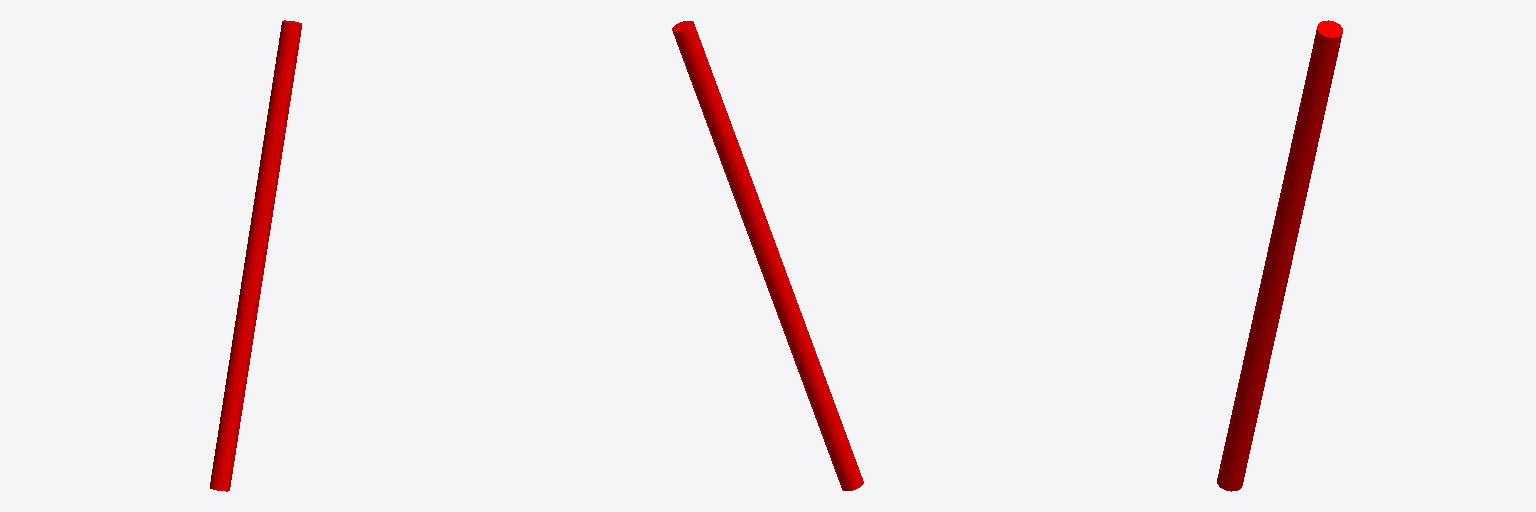
robot.urdf — tree_42.urdf:
<?xml version='1.0' encoding='utf-8'?>
<robot name="tree_42.urdf">
  <link name="branch_0">
    <inertial>
      <origin xyz="0.0 0.0 0.0" rpy="0.0 -0.0 0.0" />
      <mass value="1.0" />
      <inertia ixx="1.0" ixy="0.0" ixz="0.0" iyy="1.0" iyz="0.0" izz="1.0" />
    </inertial>
    <visual name="branch_0_visual">
      <geometry>
        <cylinder radius="0.07104537704890422" length="3.2987254528391357" />
      </geometry>
      <material name="semantic_material" />
      <origin xyz="0.44653898871339703 0.27184284836794526 1.5643215144759113" rpy="0.0 0.32251917805584335 0.546848492689872" />
    </visual>
    <collision name="branch_0_collision">
      <geometry>
        <cylinder radius="0.07104537704890422" length="3.2987254528391357" />
      </geometry>
      <origin xyz="0.44653898871339703 0.27184284836794526 1.5643215144759113" rpy="0.0 0.32251917805584335 0.546848492689872" />
    </collision>
  </link>
  <material name="semantic_material">
    <color rgba="1. 0. 0. 1." />
  </material>
</robot>

--- What the picture shows (computed from the rendered views, not written in the file) ---
Views: 3 orthographic renders of the robot side by side, from view 1: azimuth 30°, elevation 25°; view 2: azimuth 150°, elevation 25°; view 3: azimuth 270°, elevation 25°.
Robot: tree_42.urdf — 1 links, 0 joints (none); root link branch_0; default pose: all joints at 0.
Links seen in each view (by area): view 1: branch_0; view 2: branch_0; view 3: branch_0.
Link boxes in pixels (x1=…): branch_0: x1=210, y1=20, x2=301, y2=491; branch_0: x1=672, y1=21, x2=863, y2=490; branch_0: x1=1217, y1=20, x2=1342, y2=491.
Size in the robot's own frame: 1.03 by 0.6835 by 3.17 metres.
Geometry: primitives only (box / cylinder / sphere), no mesh files.